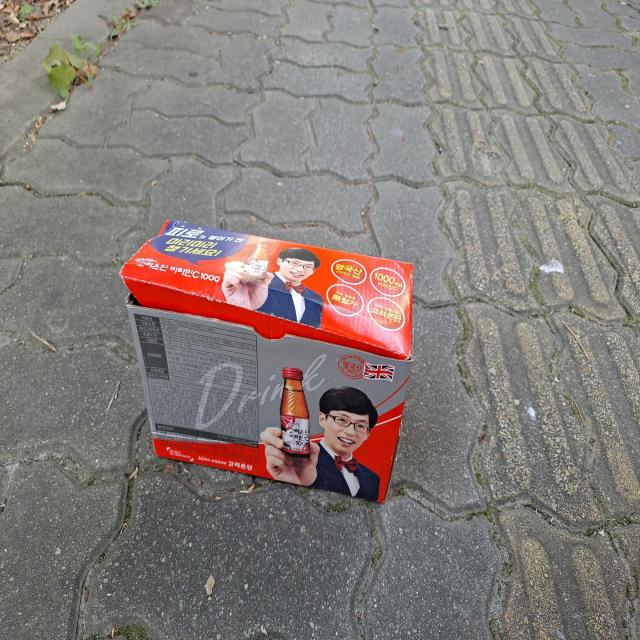paperpack: (121, 221, 413, 502)
